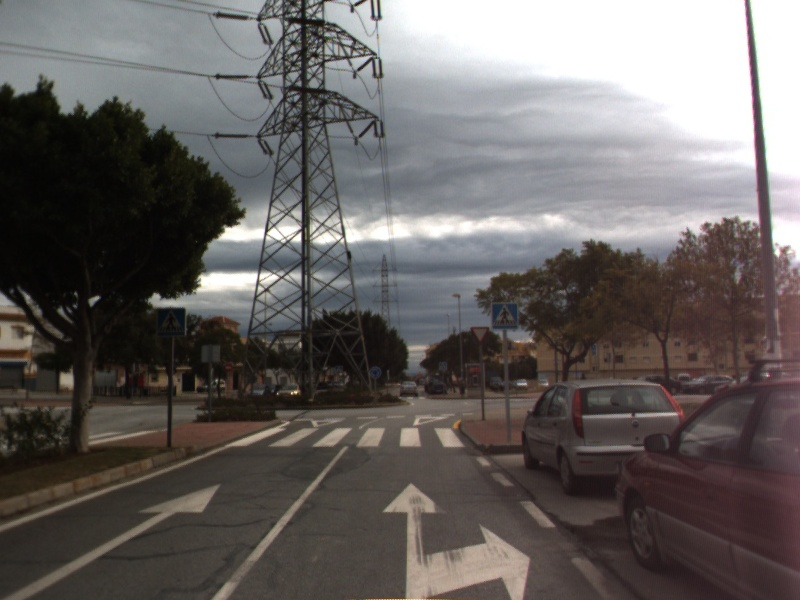STRAIGHT: (1, 480, 224, 600)
STRAIGHT_RIGHT: (379, 479, 533, 600)
